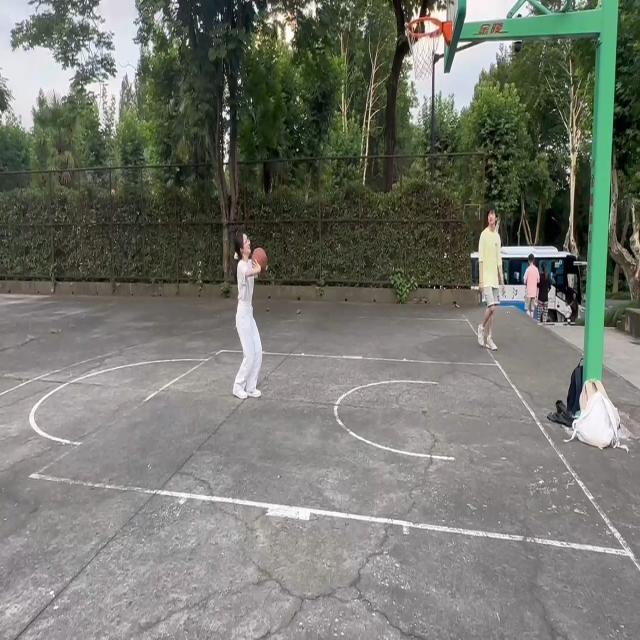basketball: (406, 15, 450, 80)
rim: (252, 247, 266, 272)
